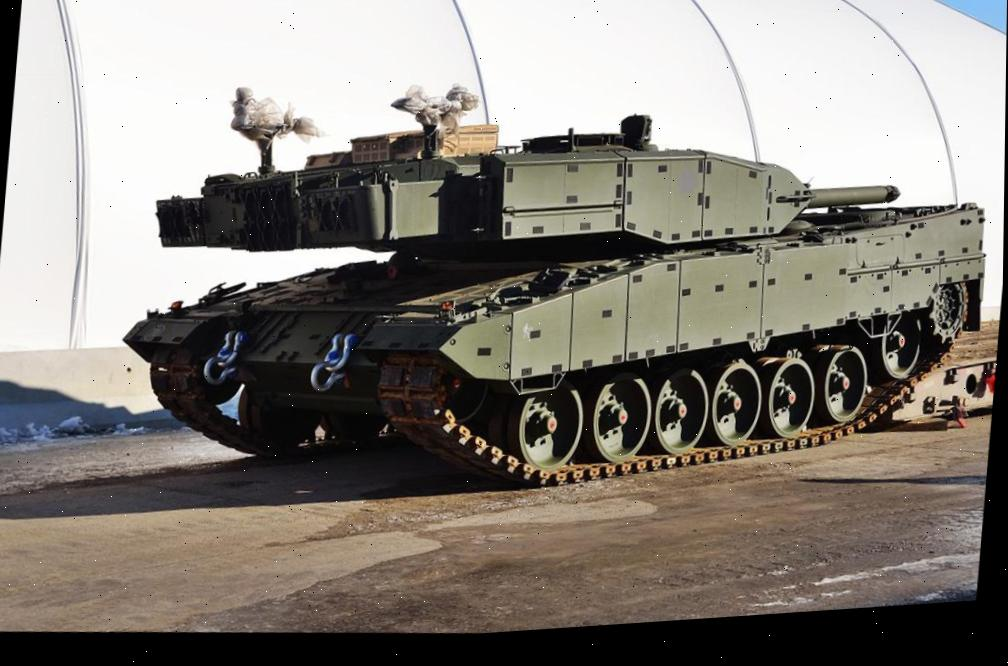tank: (105, 52, 1006, 554)
